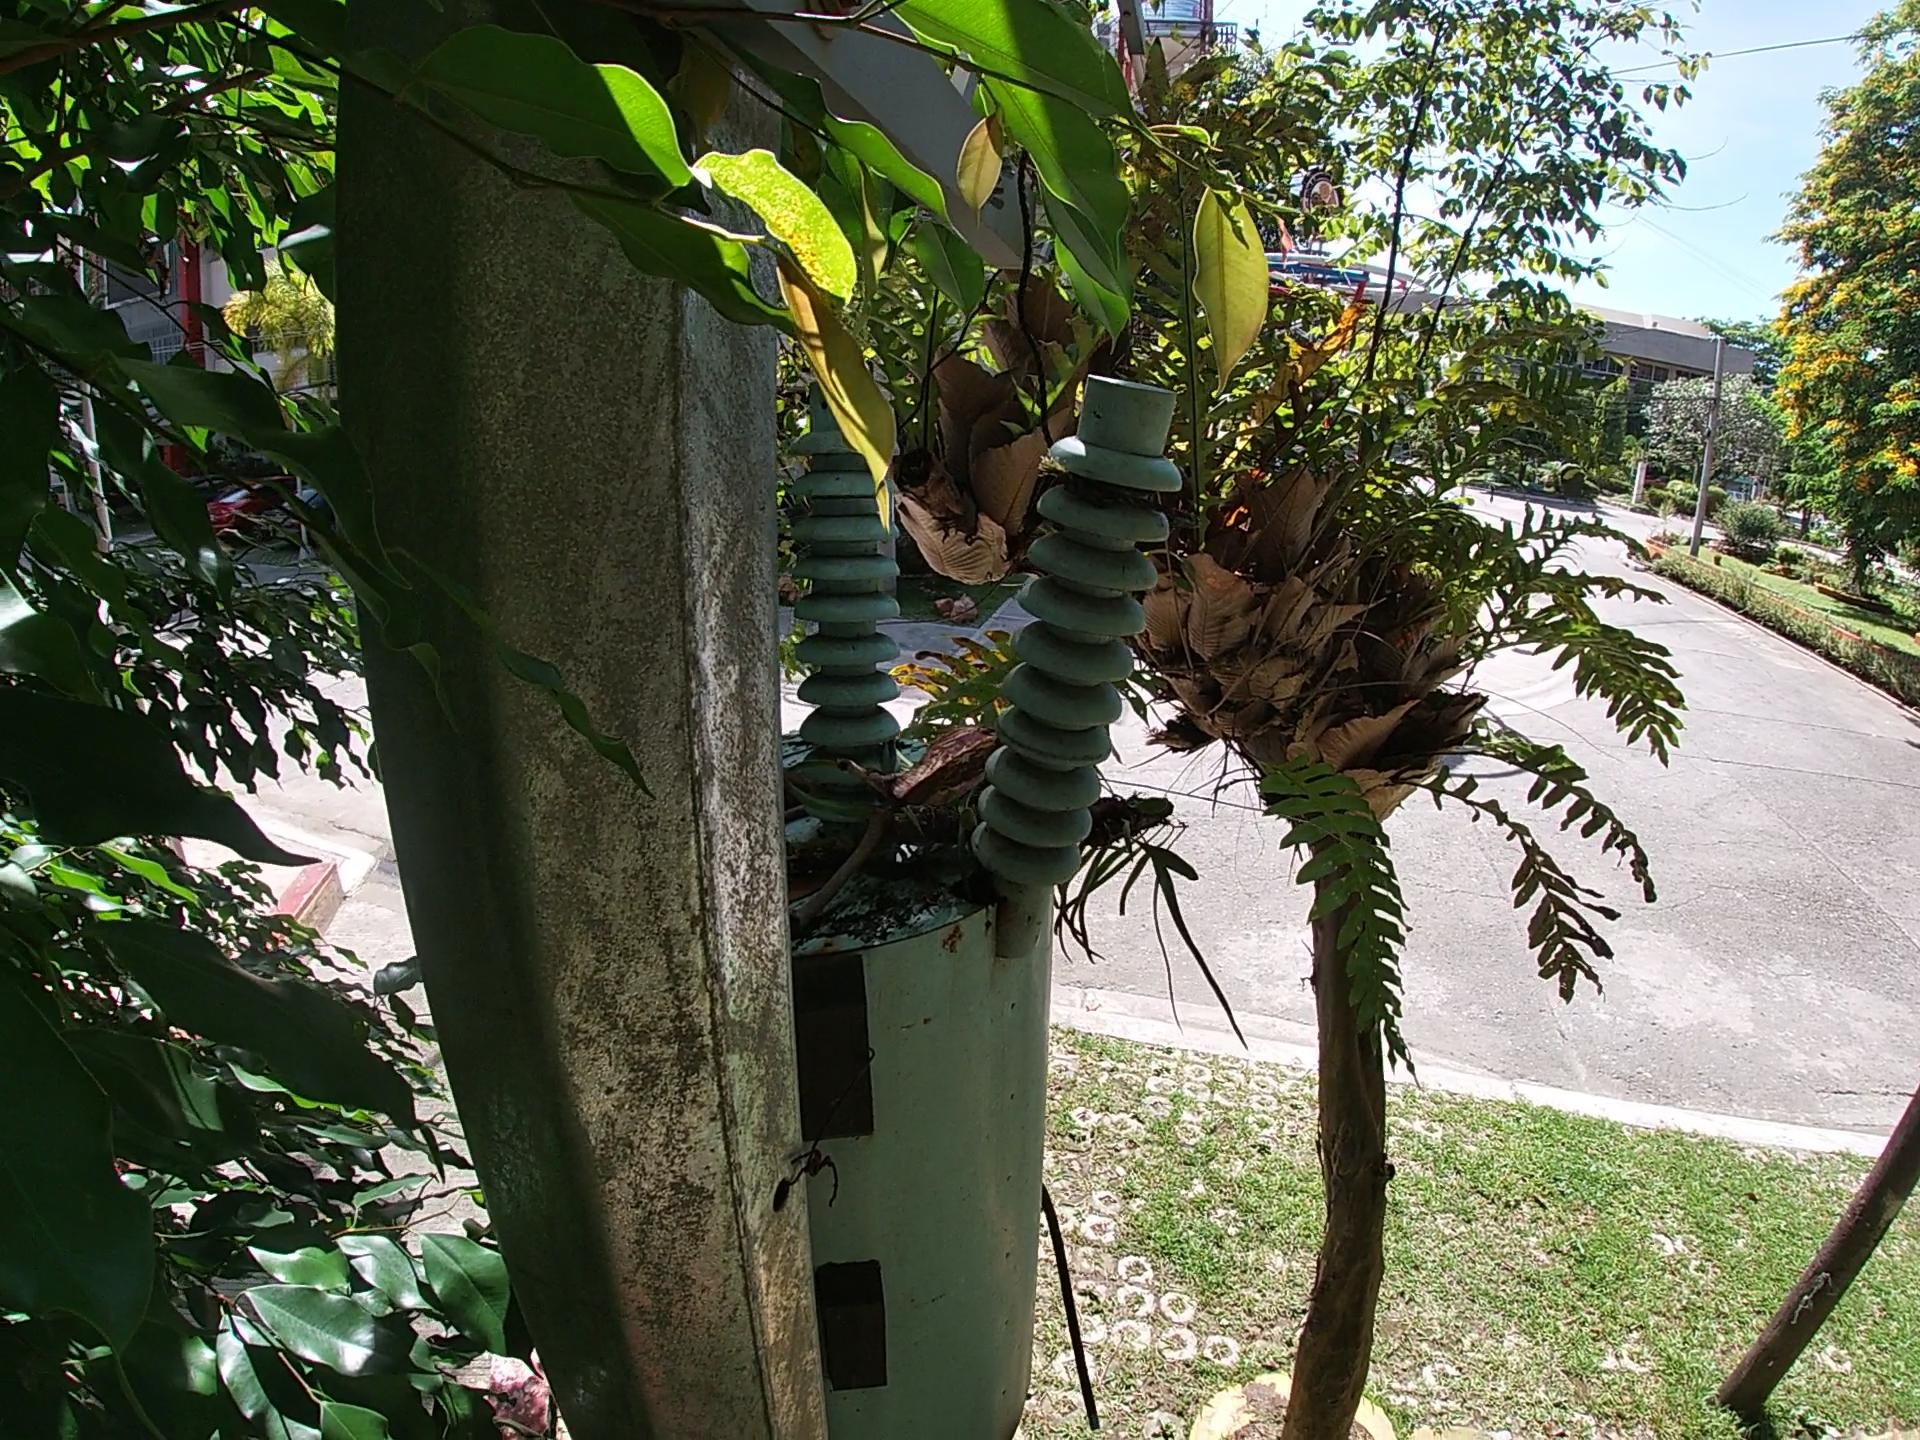branch with leaves: (881, 737, 1358, 924)
mahogany fruit: (869, 722, 1001, 802)
tree branch: (751, 771, 906, 944)
